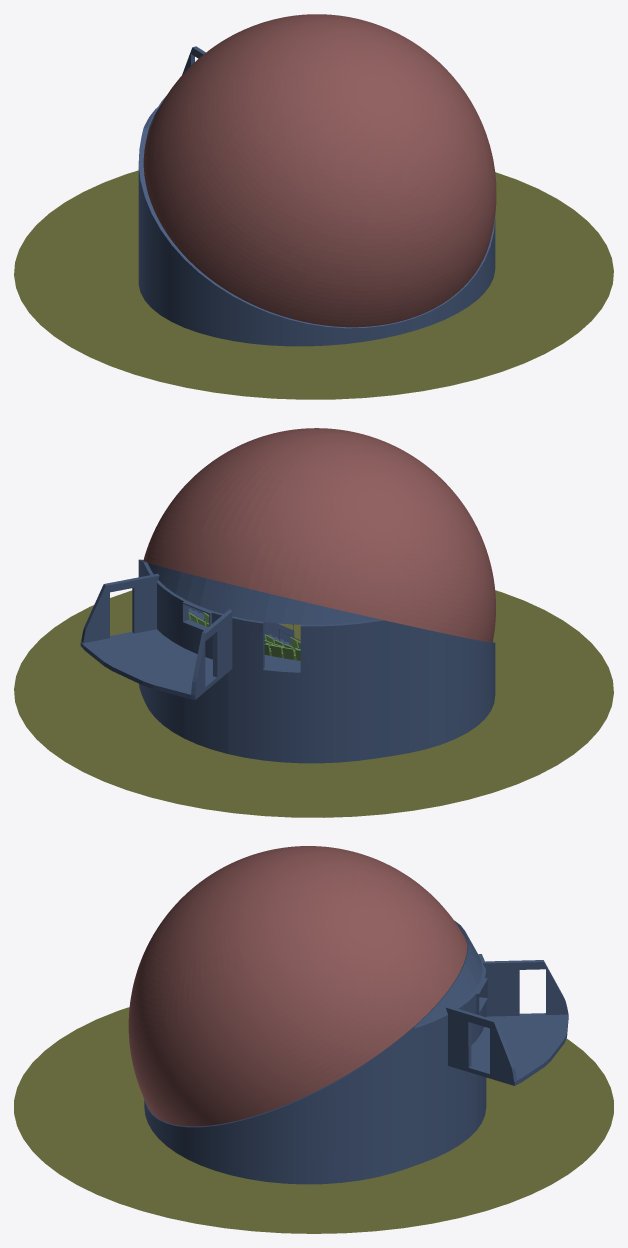
File: Tekniska_Wisdome_V01.fbx
The picture shows the model from 3 angles, top to bottom: view 1: azimuth 30°, elevation 25°; view 2: azimuth 150°, elevation 25°; view 3: azimuth 270°, elevation 25°; orthographic projection.
Visible parts, largest first — view 1: Screen, Floor, Main_Structure; view 2: Floor, Main_Structure, Screen, Chairs; view 3: Screen, Floor, Main_Structure.
Part boxes in pixels (<box>): Screen: <box>143,14,496,327</box>; Floor: <box>14,170,613,399</box>; Main_Structure: <box>138,46,495,346</box>; Floor: <box>14,590,613,817</box>; Main_Structure: <box>80,559,495,763</box>; Screen: <box>143,428,495,642</box>; Chairs: <box>188,612,300,660</box>; Screen: <box>128,846,467,1126</box>; Floor: <box>14,1007,613,1233</box>; Main_Structure: <box>144,920,568,1184</box>.
Bounding box in the file's own units: 2506 × 1125 × 2503.
